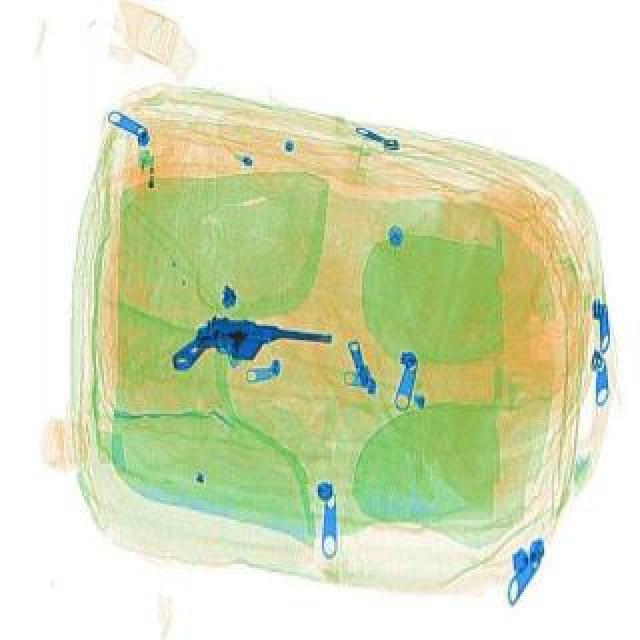gun: (170, 314, 338, 376)
